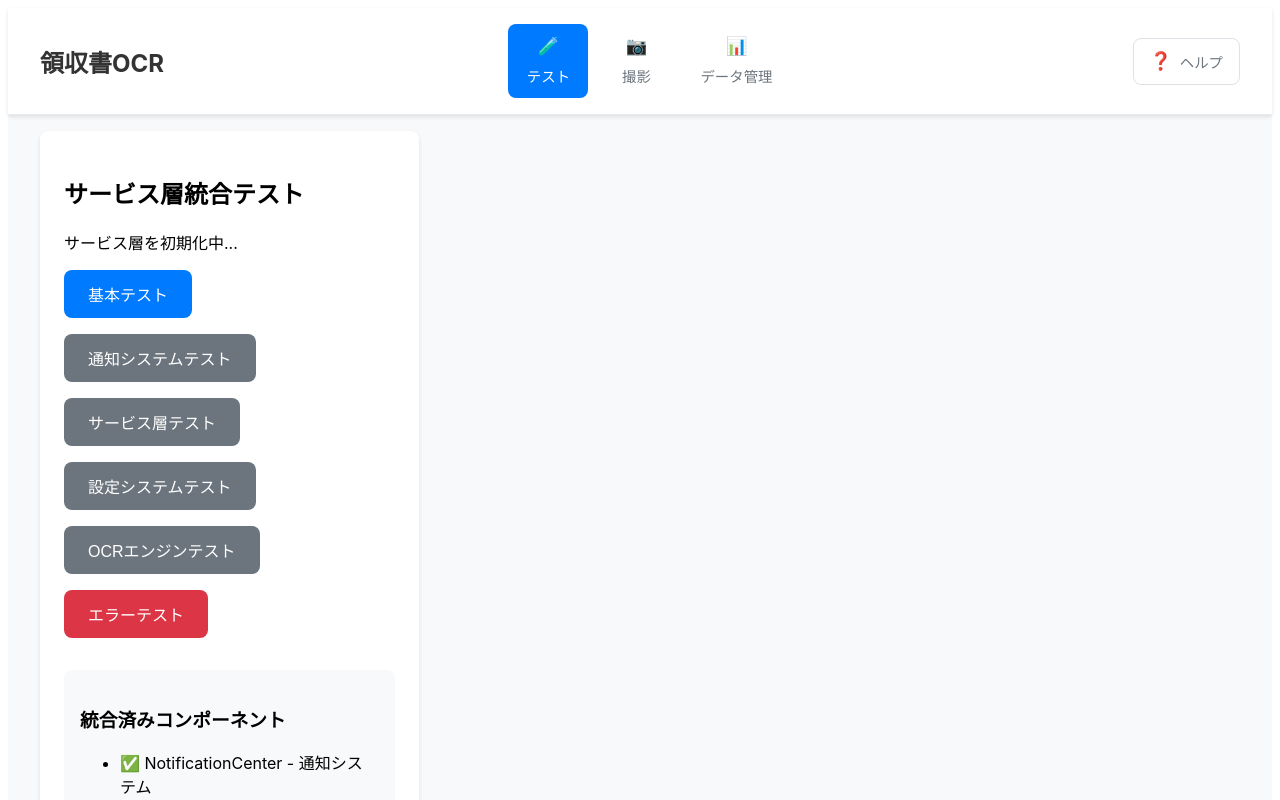
Scenario: Help System Integration Tests › should open help system when help button is clicked
Expected: the heading "領収書OCR" is shown, [40,44,164,78]
Click help button
Click the button titled "ヘルプ・ガイド". click: [1186, 61]
box: [1133,38,1240,84]
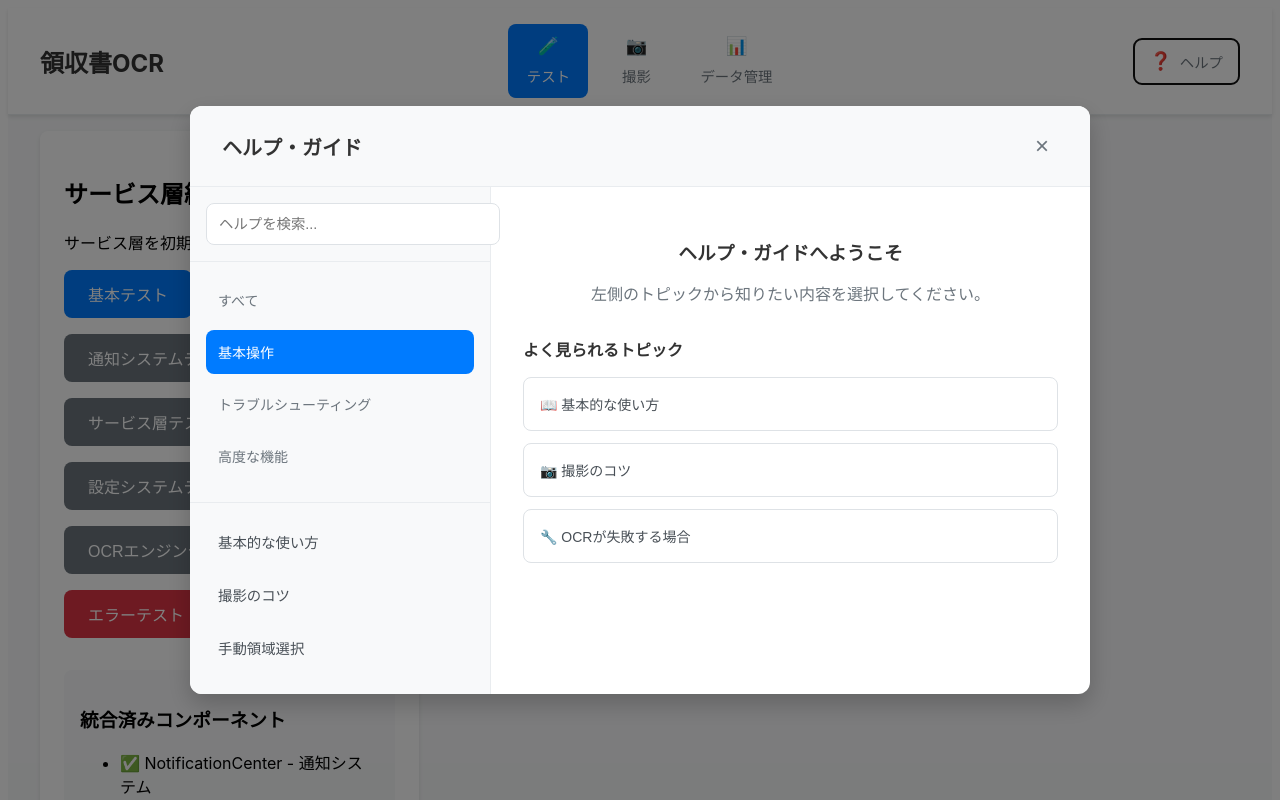
Expected: the heading "ヘルプ・ガイドへようこそ" is shown, [678,242,903,265]
Expected: the button "基本操作" is shown, [206,330,474,374]
Expected: the button "トラブルシューティング" is shown, [206,382,474,426]
